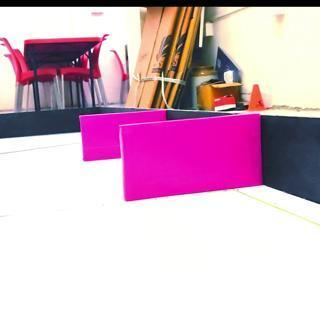xparking: (122, 124, 260, 197), (80, 114, 118, 162)
